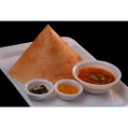dosa: (10, 18, 82, 85)
